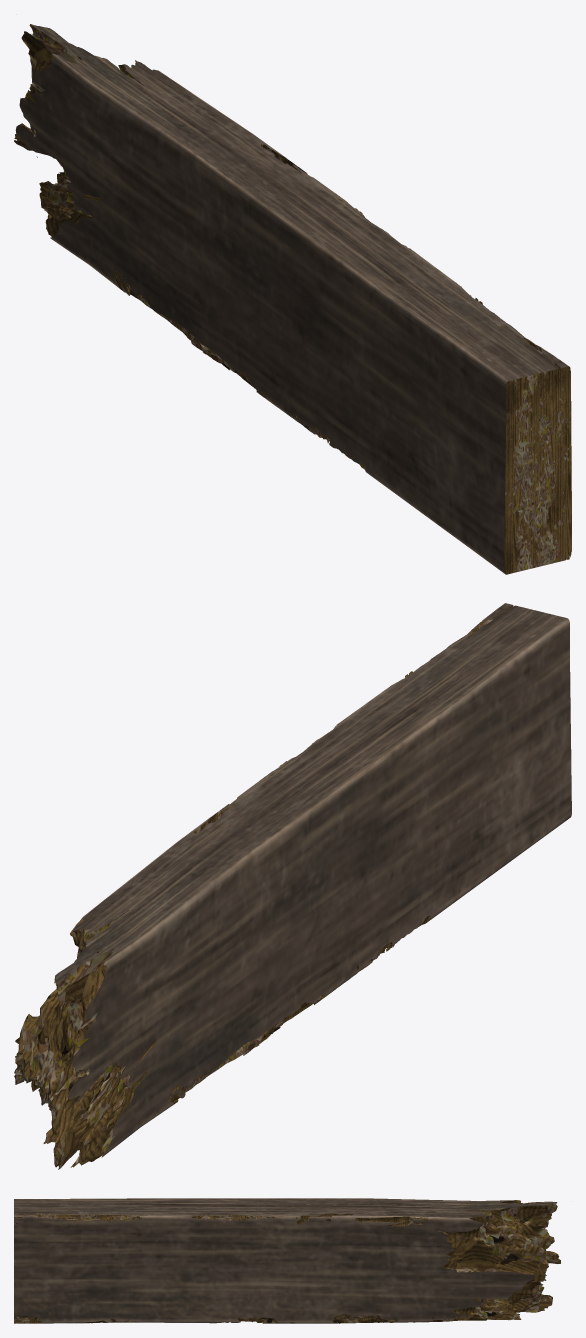
The model's file is SM_Wood_09.fbx.
3 views of the same model, one above another, from view 1: azimuth 30°, elevation 25°; view 2: azimuth 150°, elevation 25°; view 3: azimuth 270°, elevation 25° (orthographic). The views are drawn at different scales.
Parts seen in each view (by area): view 1: SM_Wood_09_LOD0; view 2: SM_Wood_09_LOD0; view 3: SM_Wood_09_LOD0.
Part boxes in pixels (x1,y1,x2,y2): SM_Wood_09_LOD0: (14, 24, 571, 574); SM_Wood_09_LOD0: (14, 603, 571, 1169); SM_Wood_09_LOD0: (14, 1198, 560, 1323).
Size of the model in its own units: 32.28 by 405 by 86.38.
